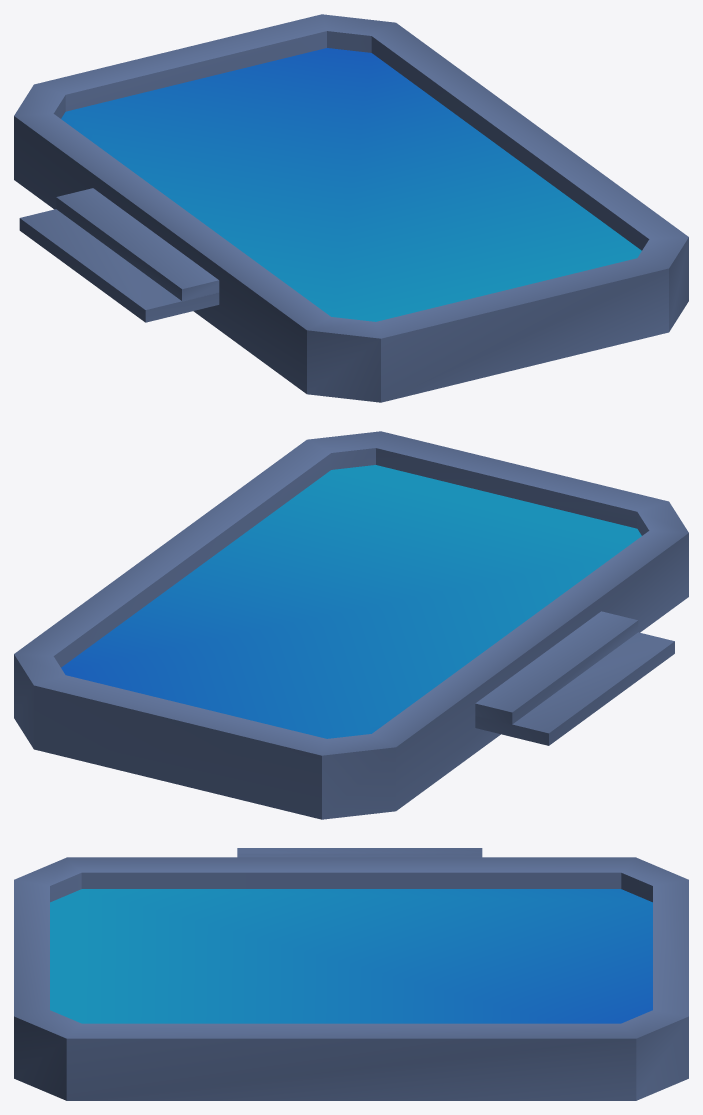
The model's file is SmallPool.FBX.
3 renders of one model, top to bottom at view 1: azimuth 30°, elevation 25°; view 2: azimuth 150°, elevation 25°; view 3: azimuth 270°, elevation 25°, orthographic. The views are drawn at different scales.
Visible parts, largest first — view 1: small_pool; view 2: small_pool; view 3: small_pool.
Part boxes in pixels (x1,y1,x2,y2): small_pool: (14, 14, 688, 402); small_pool: (14, 431, 688, 819); small_pool: (14, 848, 688, 1100).
Size of the model in its own units: 27.41 by 3.68 by 36.18.
